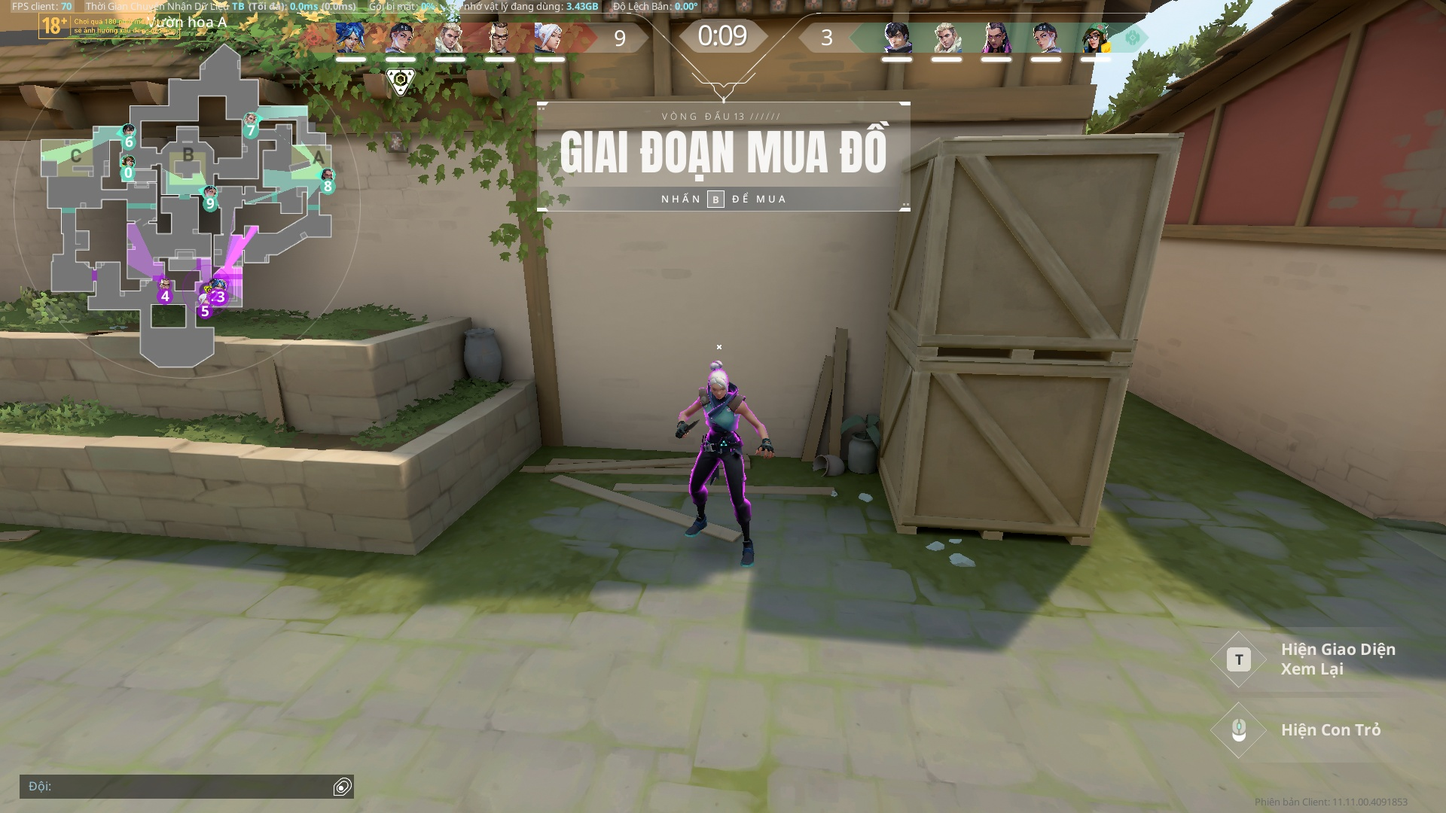body: (694, 388, 745, 431)
head: (707, 373, 729, 398)
